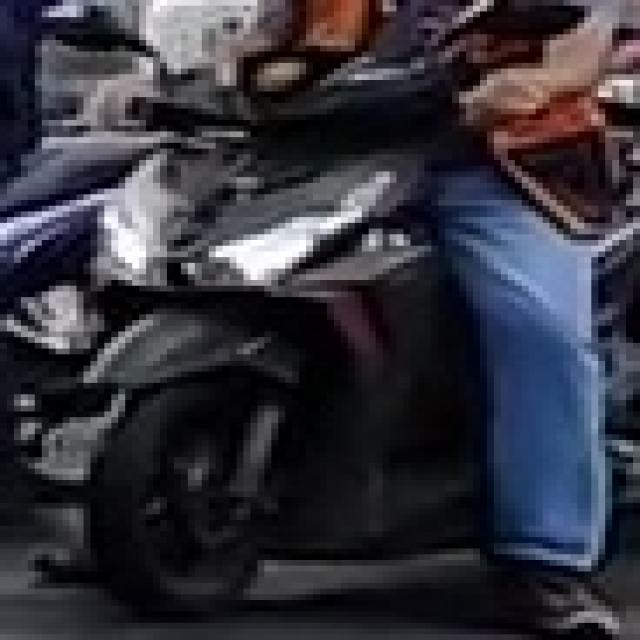door: (0, 0, 633, 634)
tyre: (77, 377, 278, 612)
